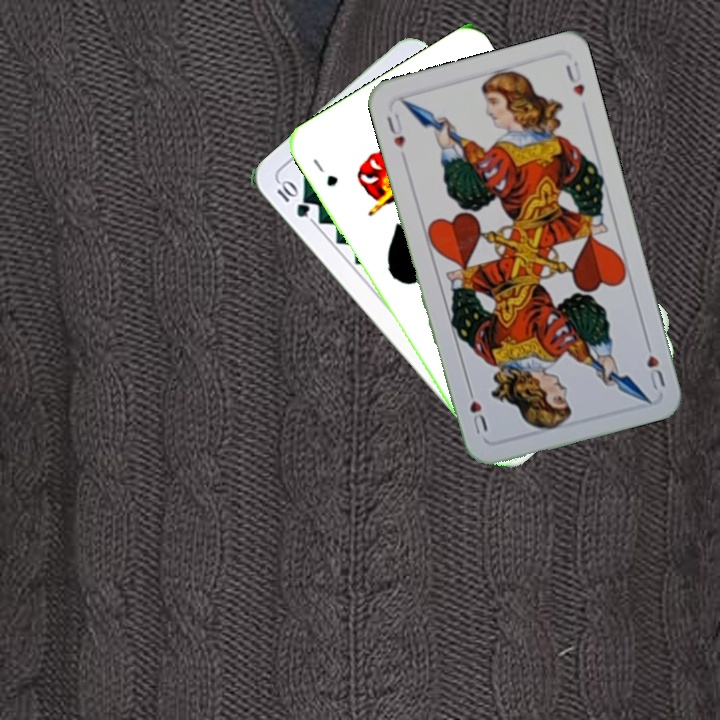G10: (272, 176, 313, 221)
GU: (308, 154, 341, 190)
HU: (639, 335, 668, 392), (383, 109, 408, 151)
